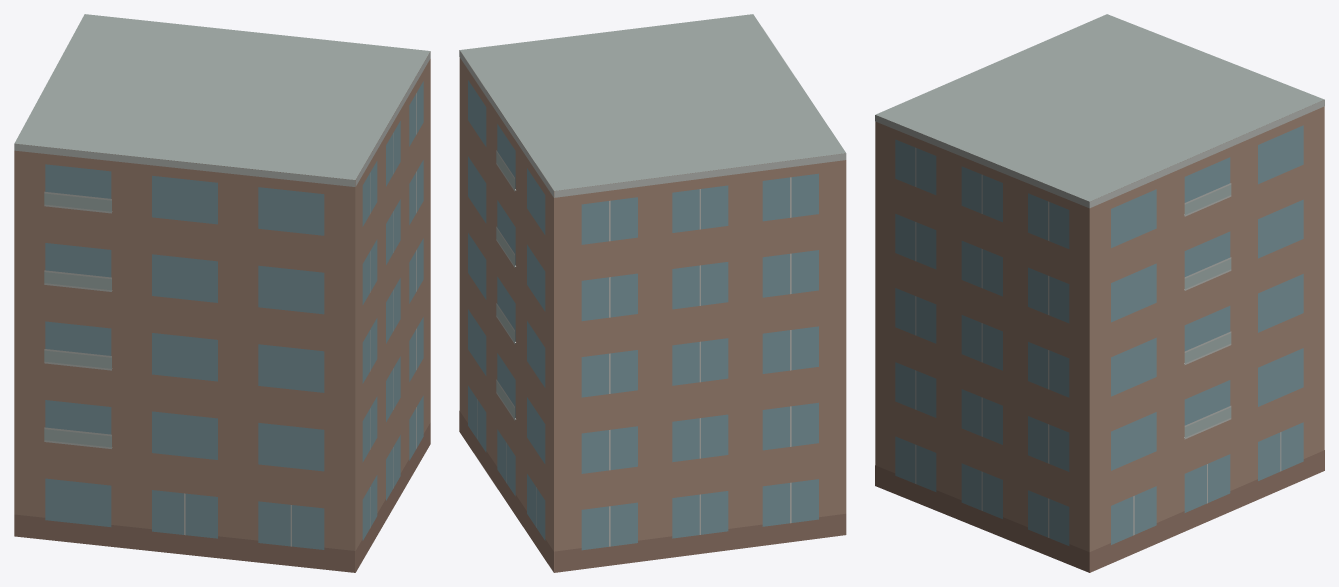
File: survey-upis-32883891.glb
The picture shows the model from 3 angles, left to right: view 1: azimuth 30°, elevation 25°; view 2: azimuth 150°, elevation 25°; view 3: azimuth 270°, elevation 25°; orthographic projection. The views are drawn at different scales.
Visible parts, largest first — view 1: survey-upis-32883891.tmp; view 2: survey-upis-32883891.tmp; view 3: survey-upis-32883891.tmp.
Part boxes in pixels (x1,y1,x2,y2): survey-upis-32883891.tmp: (14, 14, 430, 572); survey-upis-32883891.tmp: (459, 14, 846, 572); survey-upis-32883891.tmp: (875, 14, 1324, 572).
Bounding box in the file's own units: 14.76 × 13.6 × 14.94.
